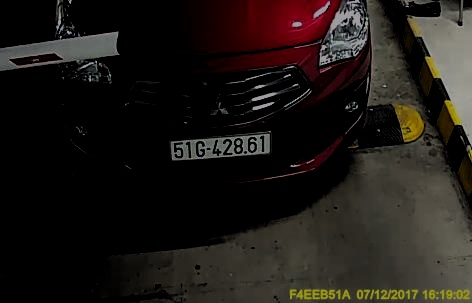plate: (167, 131, 276, 160)
